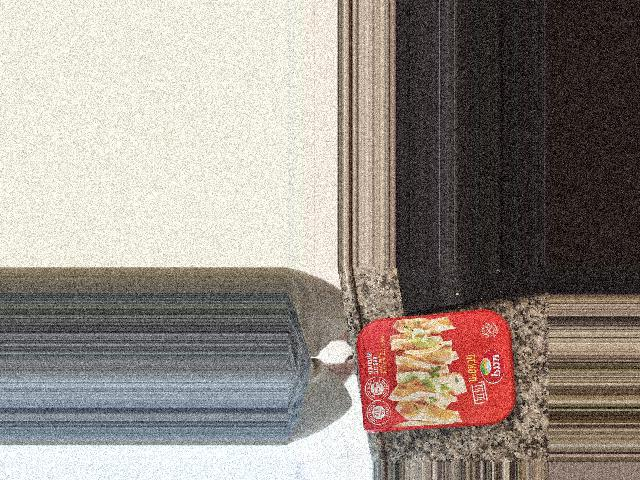cheese: (354, 311, 511, 436)
